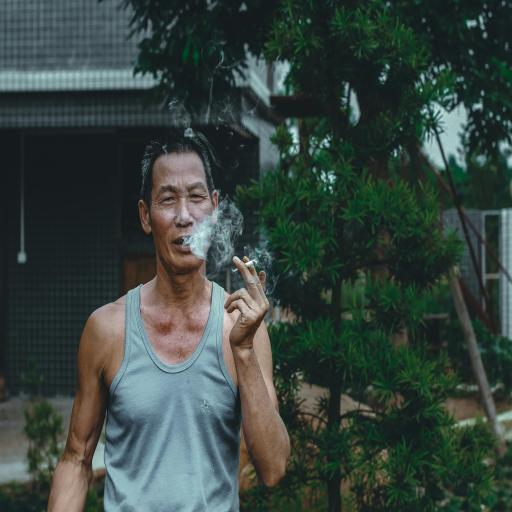terdeteksi pegang rokok: (220, 240, 273, 338)
